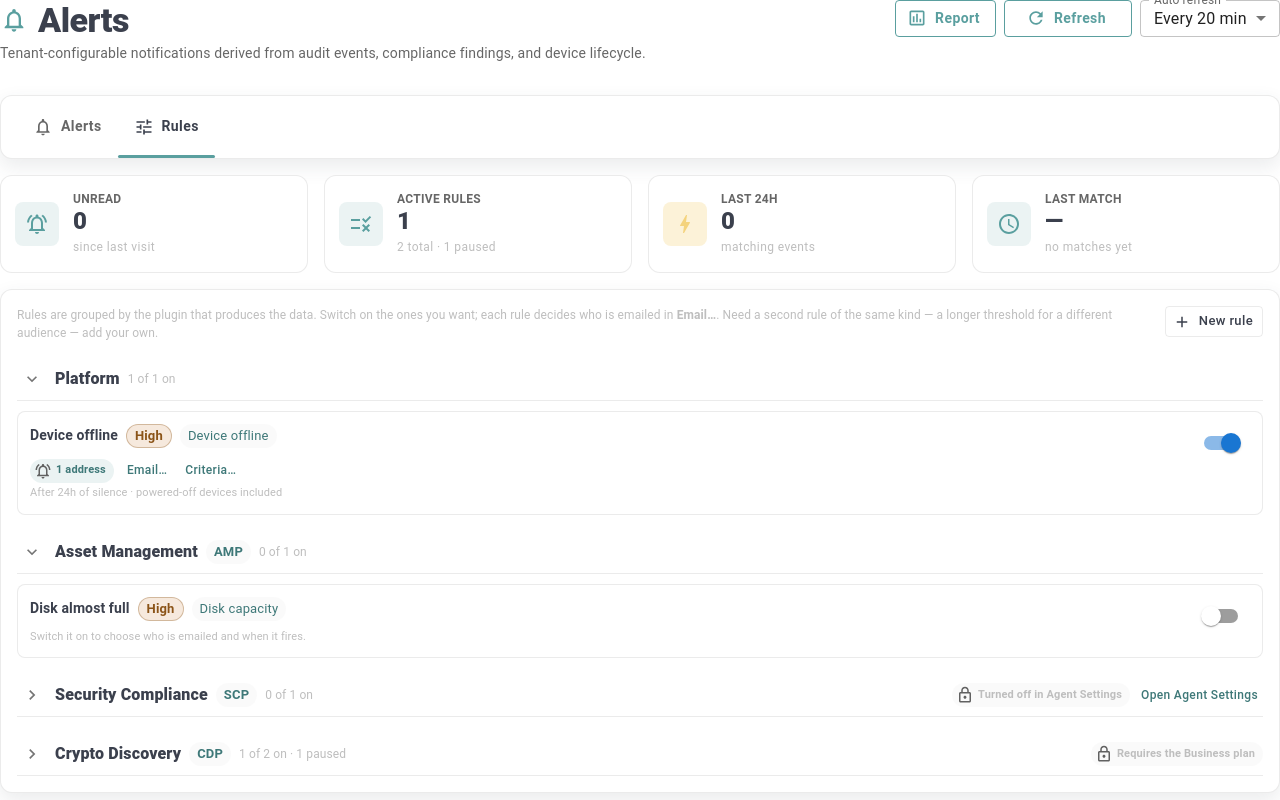
Test: Alerts — reglas agrupadas por plugin › ⭐ avisa cuando hay destinatarios pero la matriz no manda nada por correo
The width and height of the screenshot is (1280, 800).
Click the button "Email…".
click(147, 471)  # box [122,456,172,485]
(page scrolled)
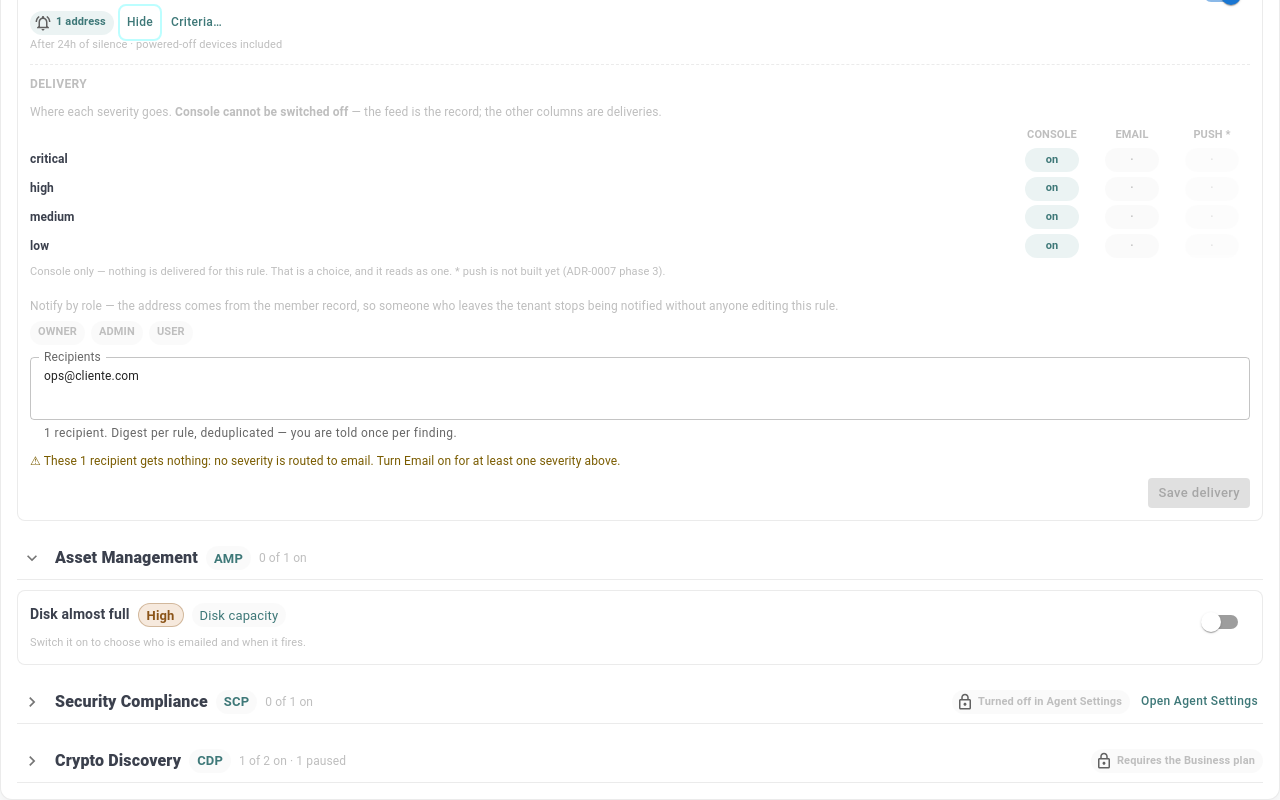
Check: the message shows "1 recipient gets nothing", box [44,454,620,468]
Check: the message shows "Turn Email on for at least one severity", box [44,454,620,468]
